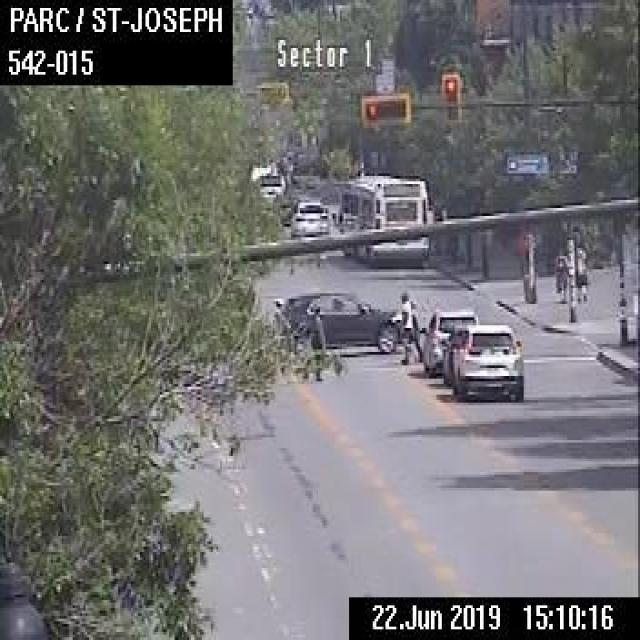bus: (331, 173, 429, 264)
pedestrian: (389, 291, 422, 365), (301, 305, 326, 380), (552, 246, 566, 300), (574, 246, 588, 300)
vehicle: (271, 288, 402, 355), (451, 320, 523, 402), (418, 309, 478, 376), (289, 198, 327, 234), (255, 173, 284, 198), (439, 329, 451, 384)
